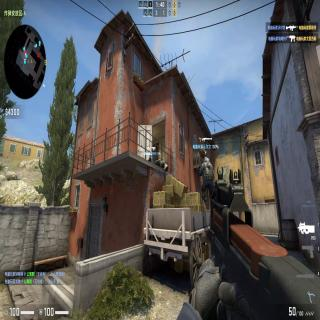CT-Body: (199, 157, 214, 188)
CT-Head: (203, 156, 210, 162)
